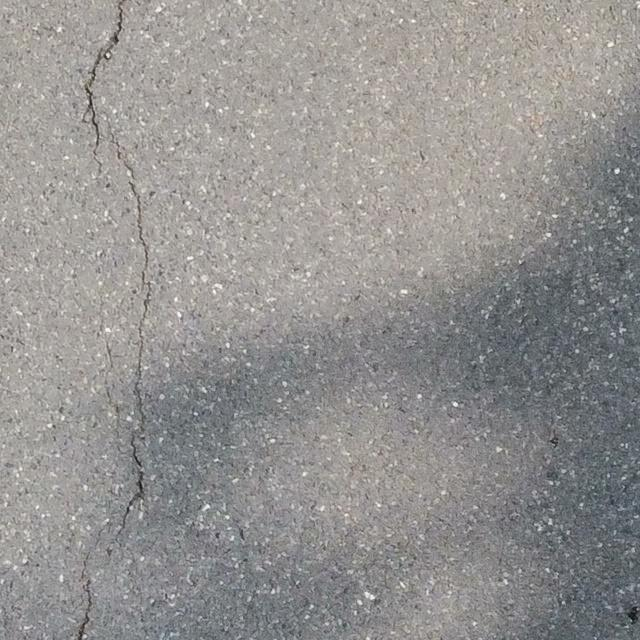LongitudinalCrack: (77, 2, 149, 640)
